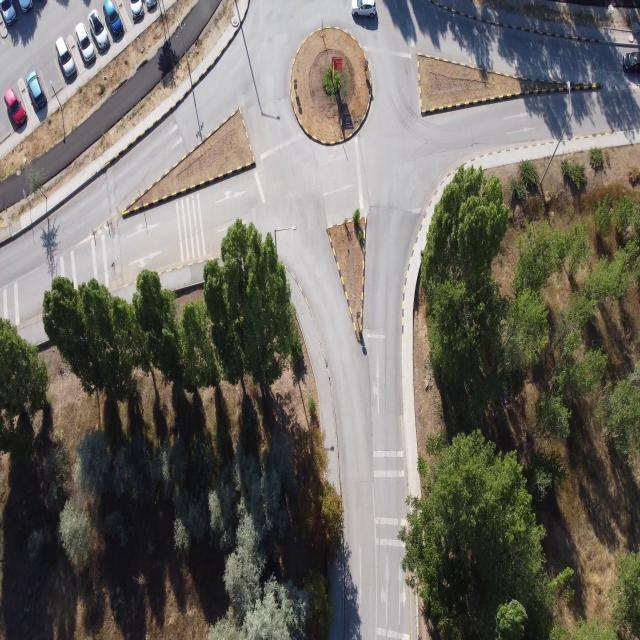vehicle: (3, 86, 27, 128), (74, 21, 96, 66), (26, 68, 47, 112), (88, 9, 110, 49), (104, 0, 125, 41), (55, 36, 74, 76), (622, 50, 640, 74), (351, 0, 376, 16), (0, 0, 16, 24), (130, 0, 144, 20), (18, 0, 34, 11), (146, 0, 158, 10), (420, 249, 425, 260)
